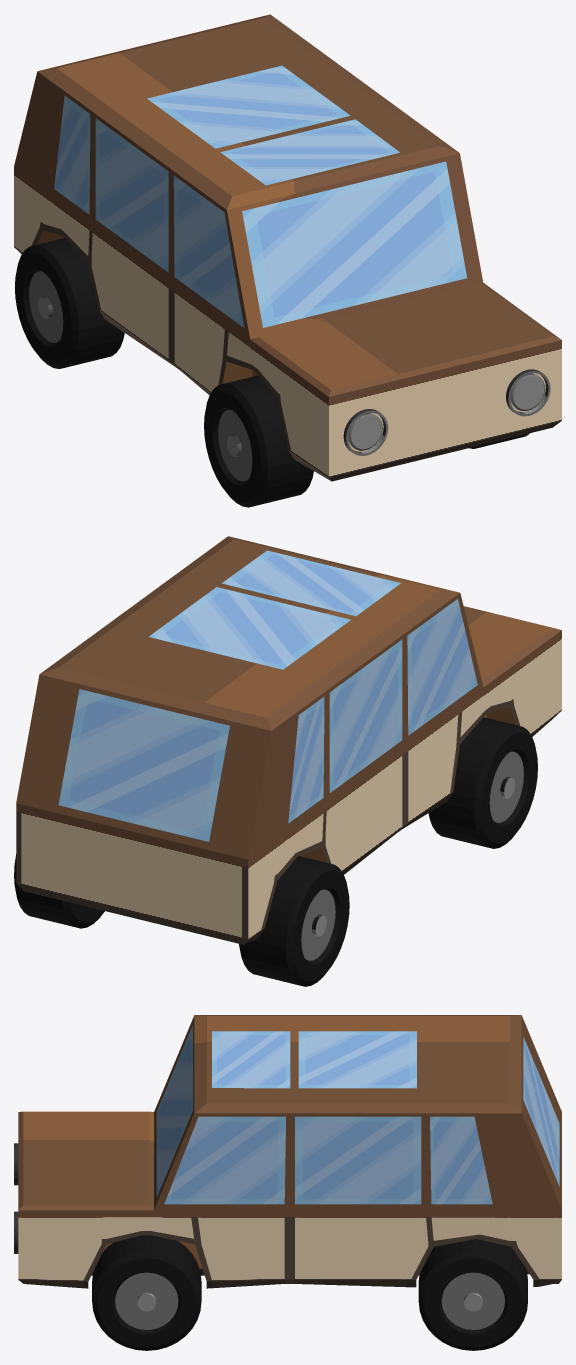
File: Car1.fbx
The picture shows the model from 3 angles, top to bottom: view 1: azimuth 30°, elevation 25°; view 2: azimuth 150°, elevation 25°; view 3: azimuth 270°, elevation 25°; orthographic projection. The views are drawn at different scales.
Visible parts, largest first — view 1: Cube.004; view 2: Cube.004; view 3: Cube.004.
Part boxes in pixels (bbox=[...]): Cube.004: bbox=[14, 14, 561, 507]; Cube.004: bbox=[14, 536, 561, 986]; Cube.004: bbox=[14, 1015, 561, 1350].
Bounding box in the file's own units: 663 × 619 × 1302.
